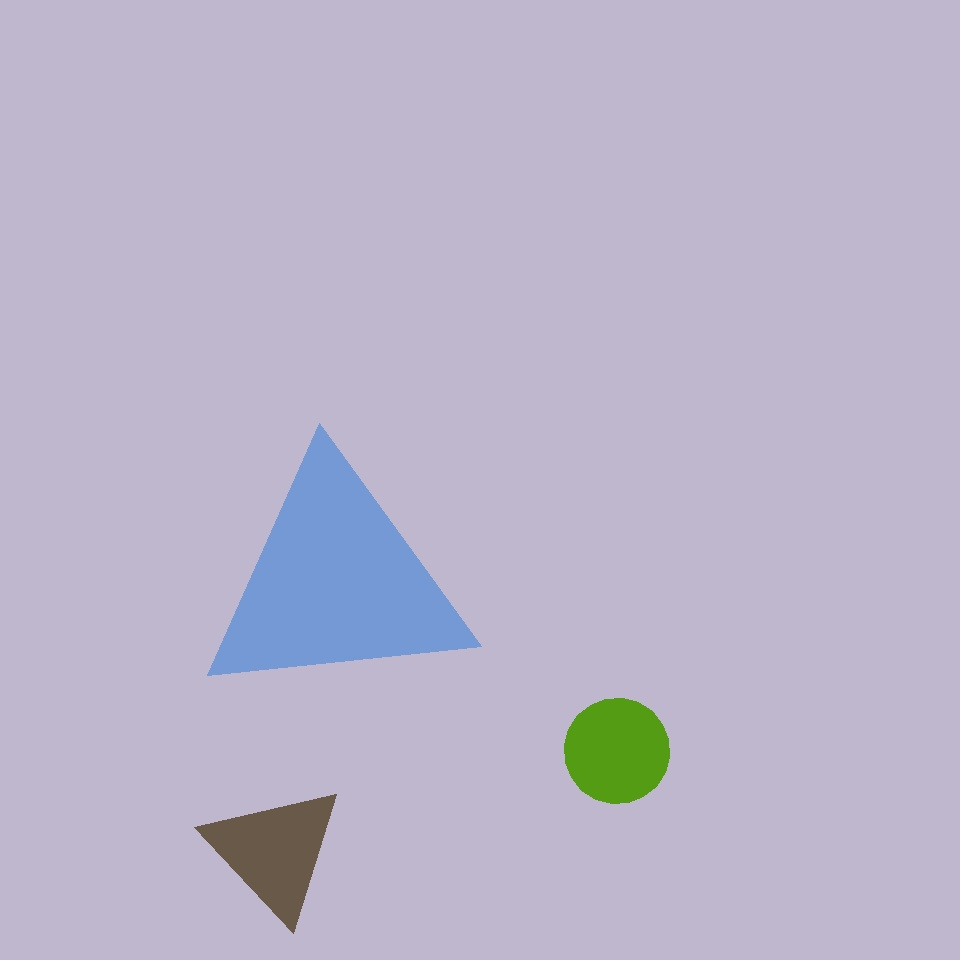circle: (199, 456, 473, 708), (732, 121, 880, 259), (204, 782, 346, 922)
square: (112, 420, 441, 748), (412, 272, 671, 531), (412, 68, 494, 151)
triangle: (293, 107, 594, 408), (564, 698, 670, 804)
